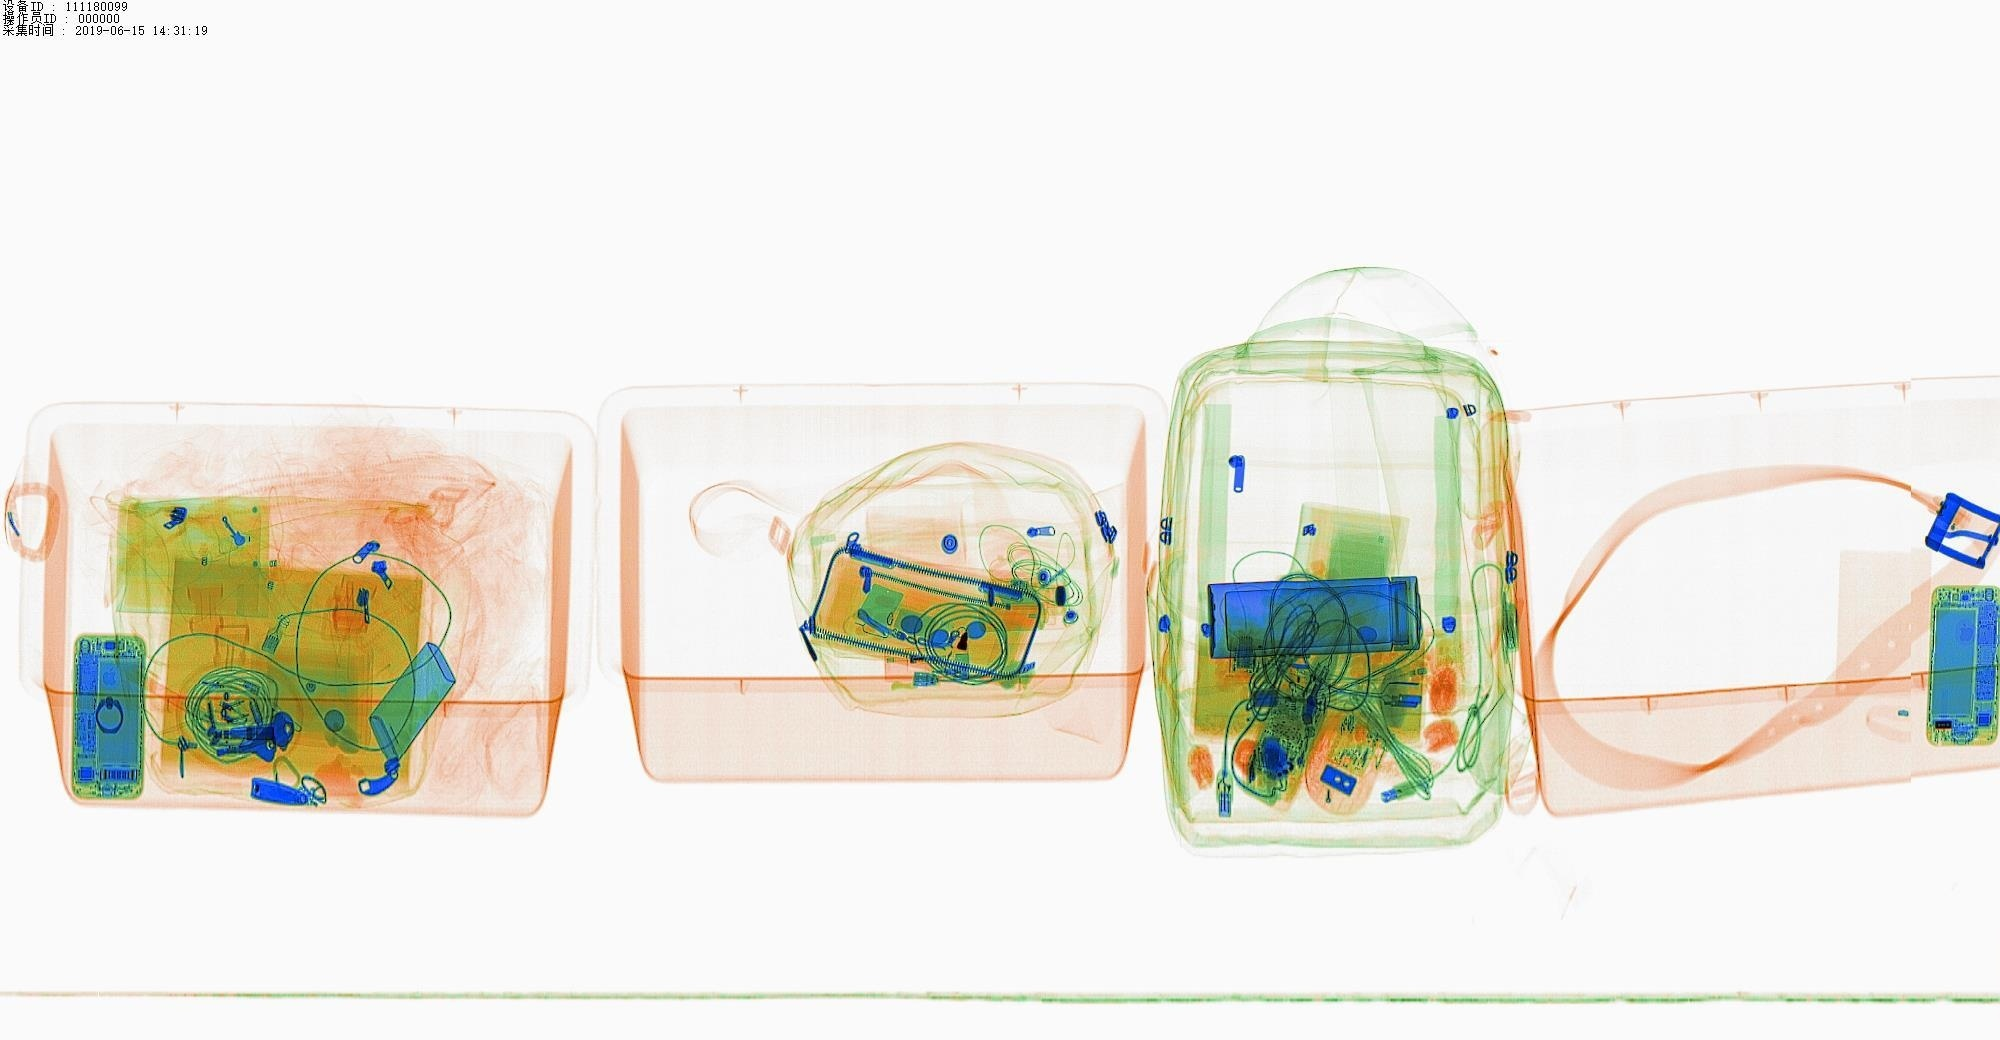NonmetallicFire: (876, 644, 983, 689)
